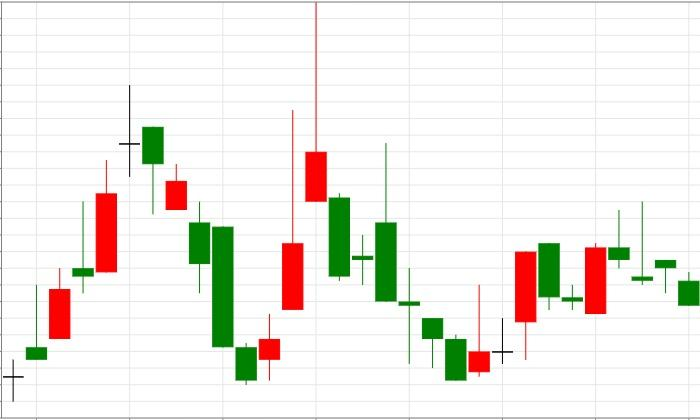hanging_man_fall: (3, 84, 163, 402)
inverse_hammer_rise: (328, 142, 490, 381)
